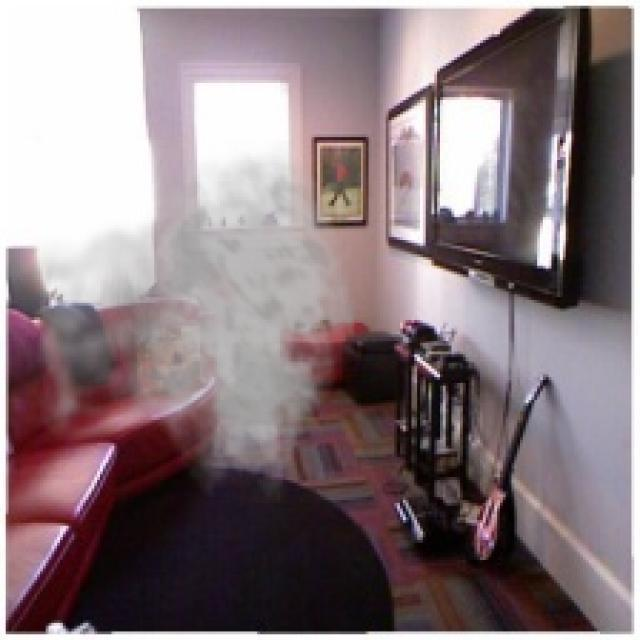Smoke: (6, 140, 357, 503)
